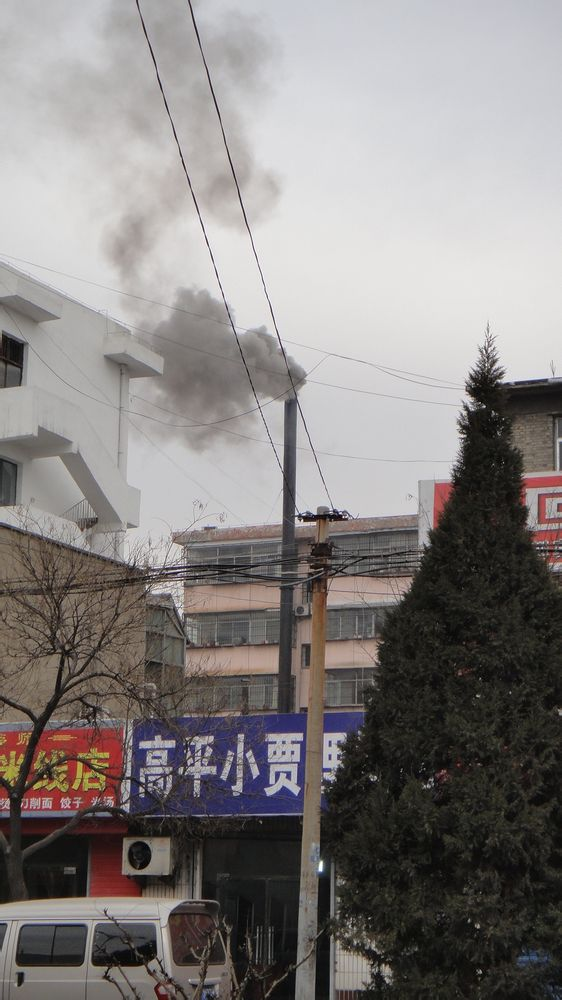dust: (163, 295, 309, 409)
